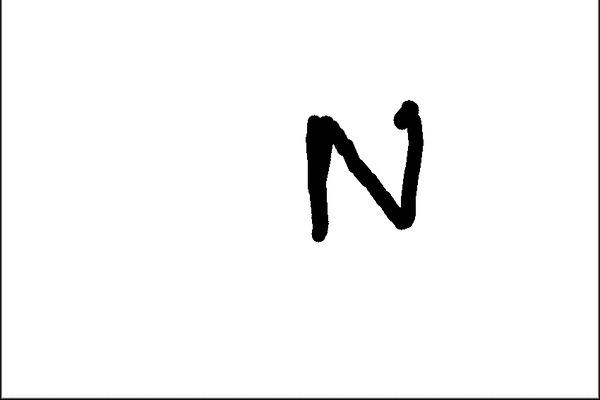N: (299, 96, 428, 247)
